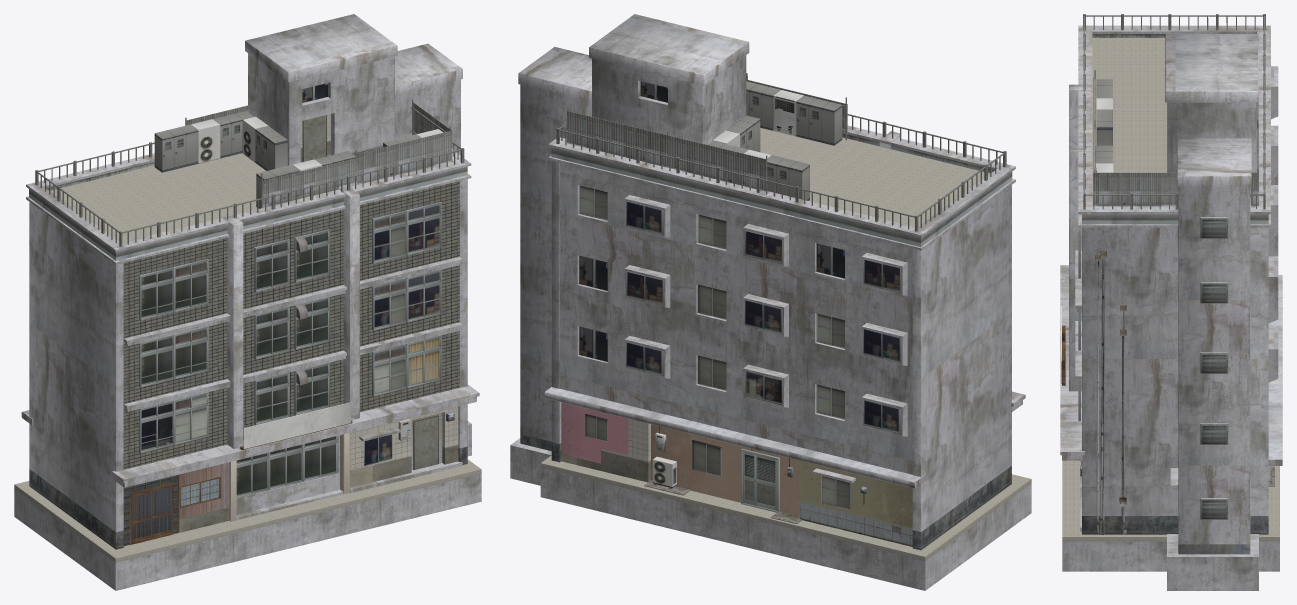
File: building_large_2.fbx
3 renders of one model, left to right at view 1: azimuth 30°, elevation 25°; view 2: azimuth 150°, elevation 25°; view 3: azimuth 270°, elevation 25°, orthographic. The views are drawn at different scales.
Parts seen in each view (by area): view 1: building_large_2; view 2: building_large_2; view 3: building_large_2.
Part boxes in pixels (x1,y1,x2,y2): building_large_2: [14, 14, 481, 590]; building_large_2: [510, 14, 1031, 590]; building_large_2: [1060, 14, 1282, 590].
Bounding box in the file's own units: 2044 × 905 × 2074.
